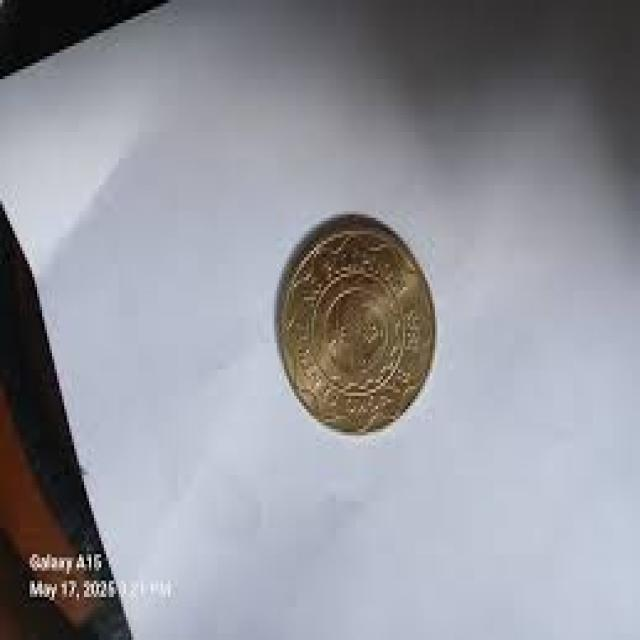5 peso-old: (269, 202, 443, 448)
